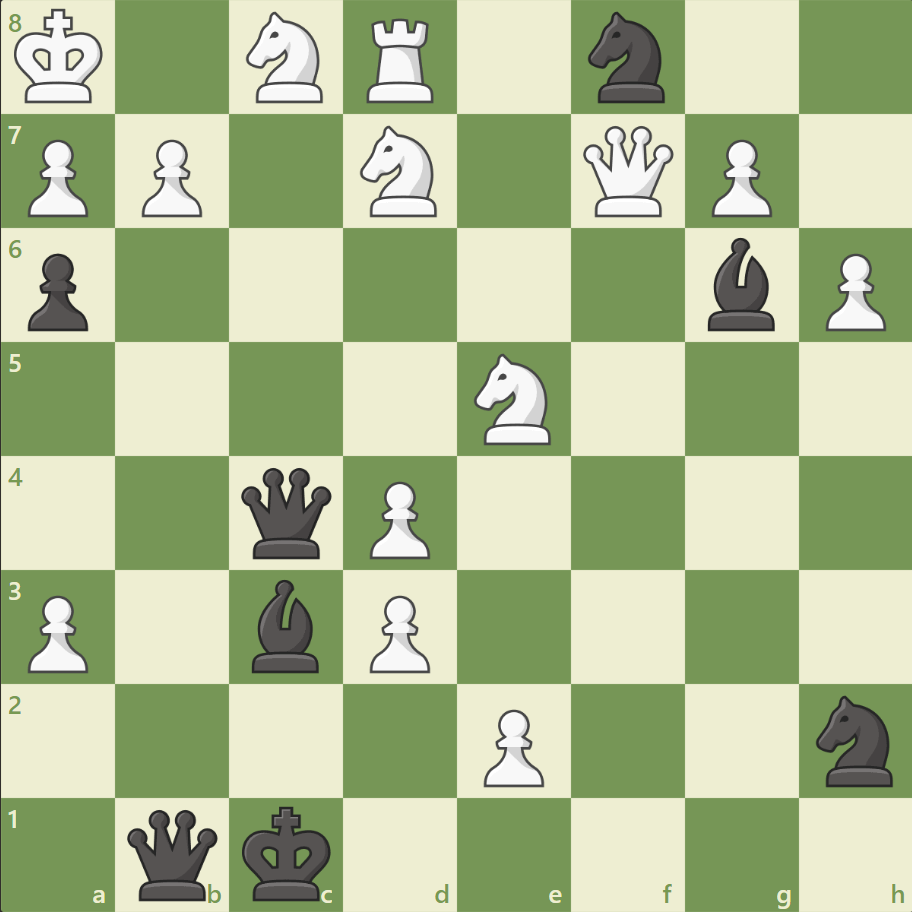K: (11, 4, 111, 112)
N: (351, 121, 449, 223), (238, 7, 335, 110), (465, 348, 562, 450)
P: (20, 132, 95, 223), (133, 132, 208, 223), (701, 132, 776, 223), (20, 586, 95, 677), (474, 700, 549, 791), (815, 246, 889, 337), (361, 473, 435, 564), (361, 586, 435, 677)
Q: (578, 122, 677, 222)
R: (360, 12, 442, 109)
b: (698, 233, 782, 336), (244, 574, 328, 676)
k: (238, 798, 338, 906)
n: (579, 7, 676, 110), (806, 688, 903, 791)
p: (20, 246, 95, 337)
q: (237, 463, 336, 562), (124, 804, 223, 903)
